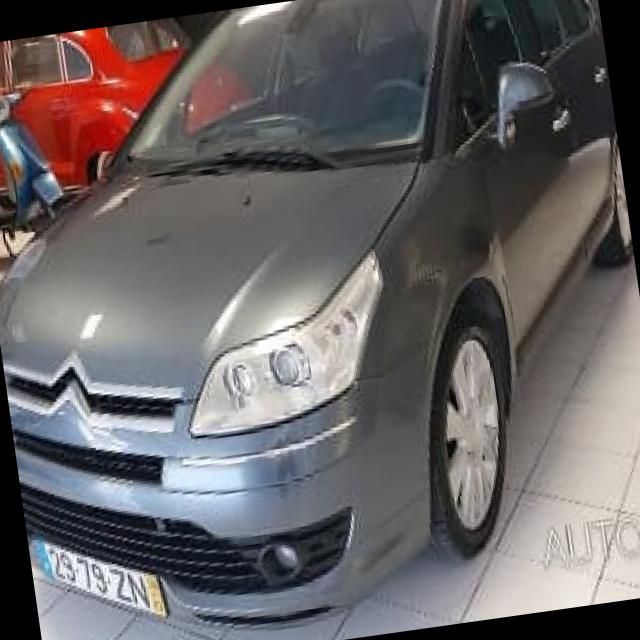portuguese-license-plates: (34, 538, 167, 617)
